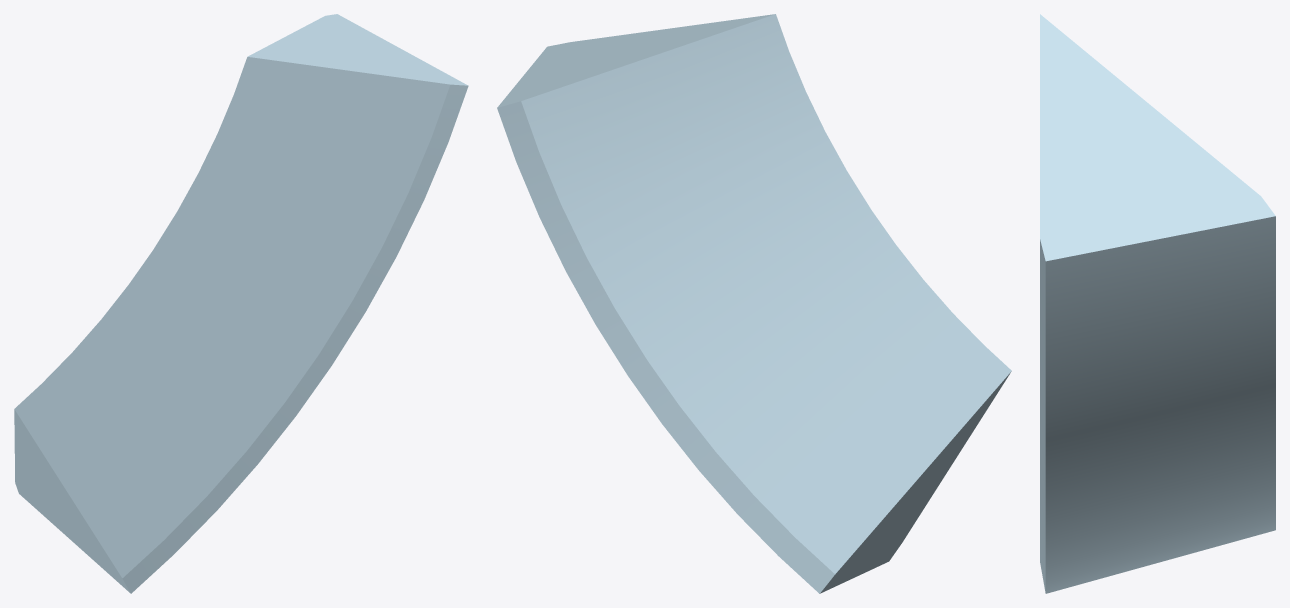
Rendered from Sub_7_Cell_2_3.gltf.
3 renders of one model, left to right at view 1: azimuth 30°, elevation 25°; view 2: azimuth 150°, elevation 25°; view 3: azimuth 270°, elevation 25°, orthographic. The views are drawn at different scales.
Visible parts, largest first — view 1: Sub_7_Cell_2_3; view 2: Sub_7_Cell_2_3; view 3: Sub_7_Cell_2_3.
Boxes of the visible parts, x1,y1,x2,y2 form: Sub_7_Cell_2_3: (14, 14, 468, 593); Sub_7_Cell_2_3: (497, 14, 1011, 593); Sub_7_Cell_2_3: (1040, 14, 1275, 593).
Bounding box in the file's own units: 0.1092 × 0.1168 × 0.0384.
